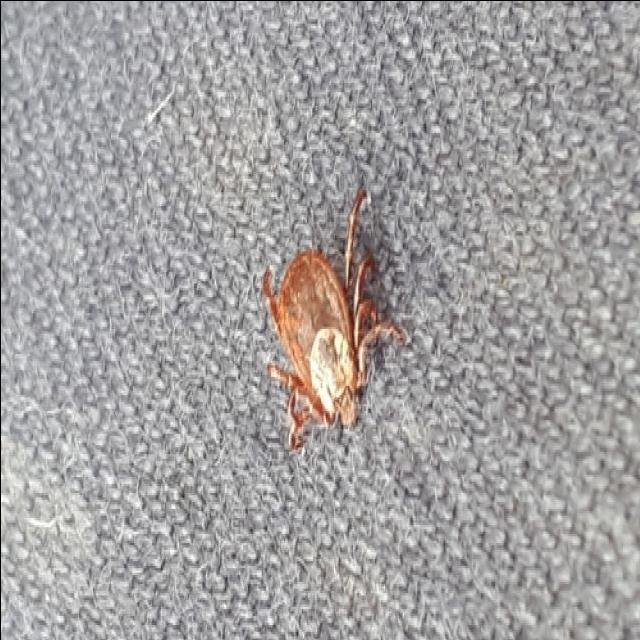Dermacentor Reticulatus-F: (257, 187, 407, 451)
